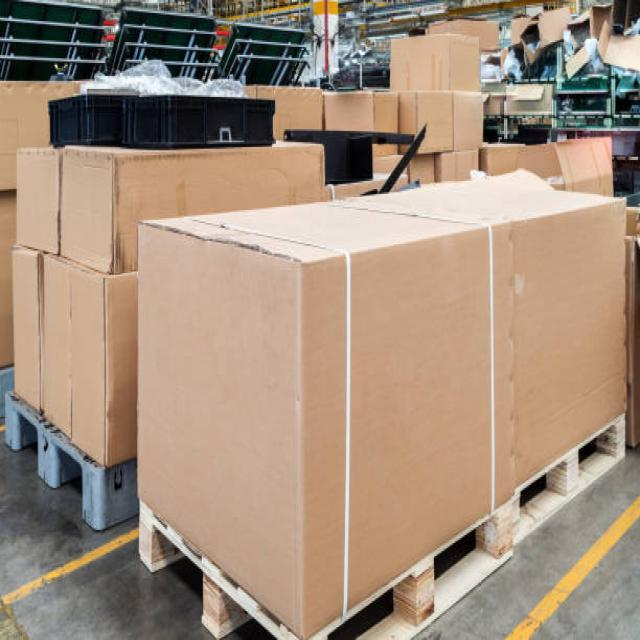Wooden-Pallets: (138, 411, 627, 640)
